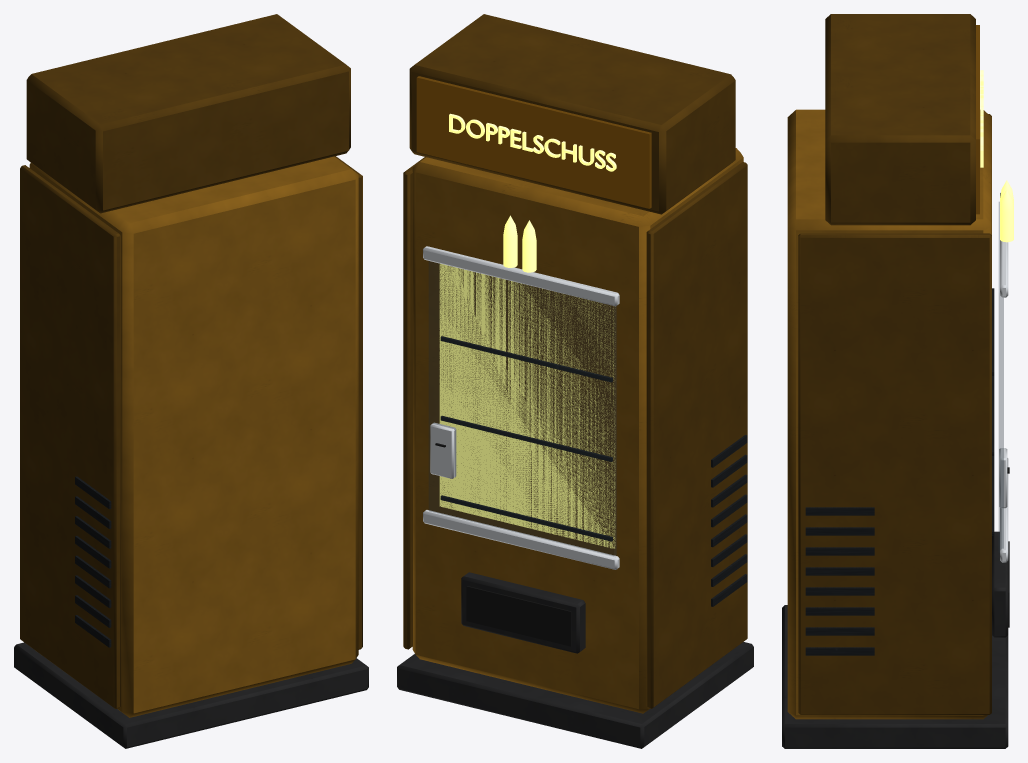
Rendered from perk_doubletap.gltf.
The picture shows the model from 3 angles, left to right: view 1: azimuth 30°, elevation 25°; view 2: azimuth 150°, elevation 25°; view 3: azimuth 270°, elevation 25°; orthographic projection.
Parts seen in each view (by area): view 1: Perk_doubletap; view 2: Perk_doubletap, PerkName_doubletap; view 3: Perk_doubletap.
Part boxes in pixels (x1,y1,x2,y2): Perk_doubletap: [14, 14, 368, 748]; Perk_doubletap: [397, 14, 753, 748]; PerkName_doubletap: [449, 113, 616, 171]; Perk_doubletap: [782, 14, 1013, 748].
Bounding box in the file's own units: 1.08 × 2.46 × 0.8403.
Materials: 11 (4 with a texture image).
